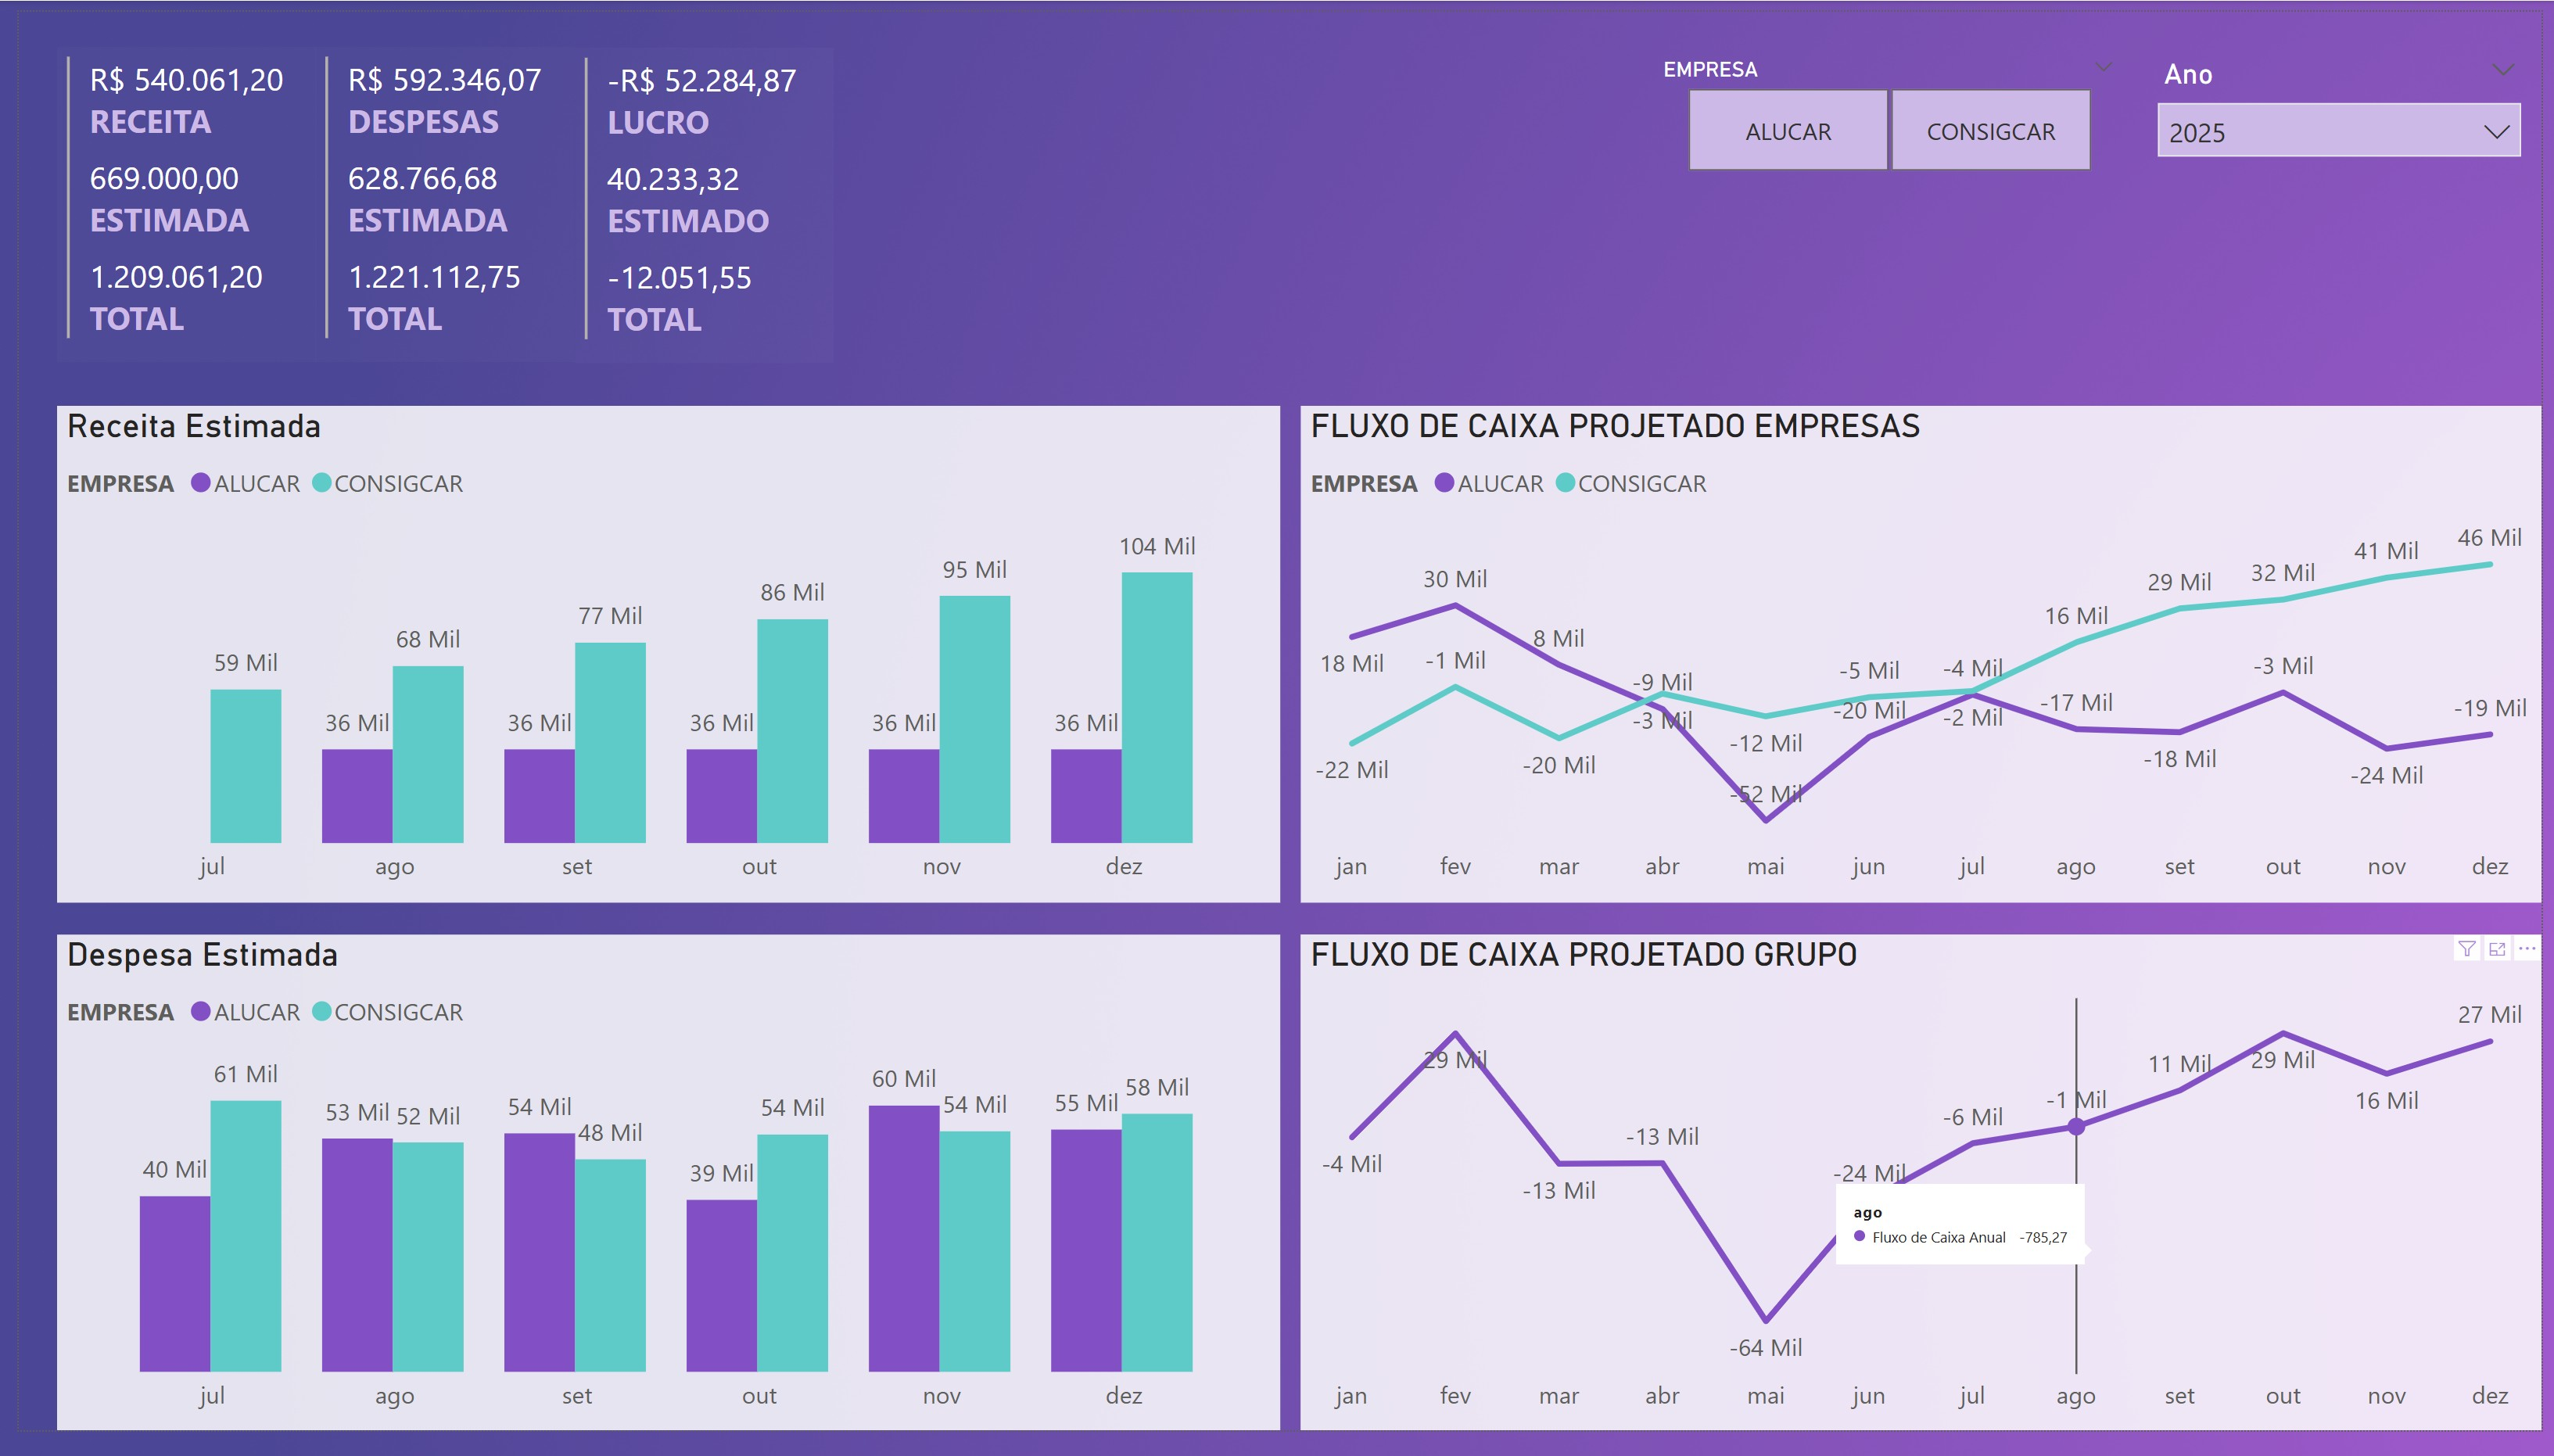

The page's visual inventory and layout, read from the dashboard file:
{"tool":"powerbi","page":{"name":"Forecast","canvas":[1280,720],"ordinal":1},"visuals":[{"type":"clusteredColumnChart","title":"Receita Estimada","fields":{"Category":["dCalendario.Mes texto"],"Y":["_medidas.Receita Estimada"],"Series":["empresas.EMPRESA"]},"box":[19.3,200.1,620.4,252],"z":0},{"type":"slicer","fields":{"Values":["dCalendario.Ano"]},"box":[1075.6,17.6,204.4,70.4],"z":1000},{"type":"slicer","fields":{"Values":["empresas.EMPRESA"]},"box":[821.5,17.5,253.8,70],"z":2000},{"type":"multiRowCard","fields":{"Values":["_medidas.RECEITA","_medidas.Receita Estimada","_medidas.Receita Total"]},"box":[19.3,17.6,131.5,159.9],"z":3000},{"type":"clusteredColumnChart","title":"Despesa Estimada","fields":{"Category":["dCalendario.Mes texto"],"Series":["empresas.EMPRESA"],"Y":["_medidas.Despesa Estimada"]},"box":[19.3,468.1,620.4,252],"z":4000},{"type":"lineChart","title":"FLUXO DE CAIXA PROJETADO EMPRESAS","fields":{"Category":["dCalendario.Mes texto"],"Series":["empresas.EMPRESA"],"Y":["_medidas.Fluxo de Caixa Anual"]},"box":[650.6,200.1,629.7,252],"z":5000},{"type":"multiRowCard","fields":{"Values":["_medidas.DESPESAS","_medidas.Despesa Estimada","_medidas.Despesa Total"]},"box":[150.7,17.6,131.5,159.9],"z":6000},{"type":"multiRowCard","fields":{"Values":["_medidas.LUCRO","_medidas.Lucro Estimado","_medidas.Lucro Total"]},"box":[282.2,18.4,131.5,159.9],"z":7000},{"type":"lineChart","title":"FLUXO DE CAIXA PROJETADO GRUPO","fields":{"Category":["dCalendario.Mes texto"],"Y":["_medidas.Fluxo de Caixa Anual"]},"box":[650.6,468.1,629.7,252],"z":8000}]}

Visuals, with their boxes in screenshot pixels (x1, y1, x2, y2), scaled from the page's 1280x720 canvas onto the 2554x1456 screenshot:
"Receita Estimada" clusteredColumnChart: {"left": 38, "top": 404, "right": 1276, "bottom": 914}
slicer - dCalendario.Ano: {"left": 2146, "top": 36, "right": 2553, "bottom": 178}
slicer - empresas.EMPRESA: {"left": 1639, "top": 35, "right": 2146, "bottom": 177}
multiRowCard - _medidas.RECEITA x _medidas.Receita Estimada: {"left": 38, "top": 36, "right": 301, "bottom": 359}
"Despesa Estimada" clusteredColumnChart: {"left": 38, "top": 947, "right": 1276, "bottom": 1455}
"FLUXO DE CAIXA PROJETADO EMPRESAS" lineChart: {"left": 1298, "top": 404, "right": 2553, "bottom": 914}
multiRowCard - _medidas.DESPESAS x _medidas.Despesa Estimada: {"left": 301, "top": 36, "right": 563, "bottom": 359}
multiRowCard - _medidas.LUCRO x _medidas.Lucro Estimado: {"left": 563, "top": 38, "right": 826, "bottom": 360}
"FLUXO DE CAIXA PROJETADO GRUPO" lineChart: {"left": 1298, "top": 947, "right": 2553, "bottom": 1455}
